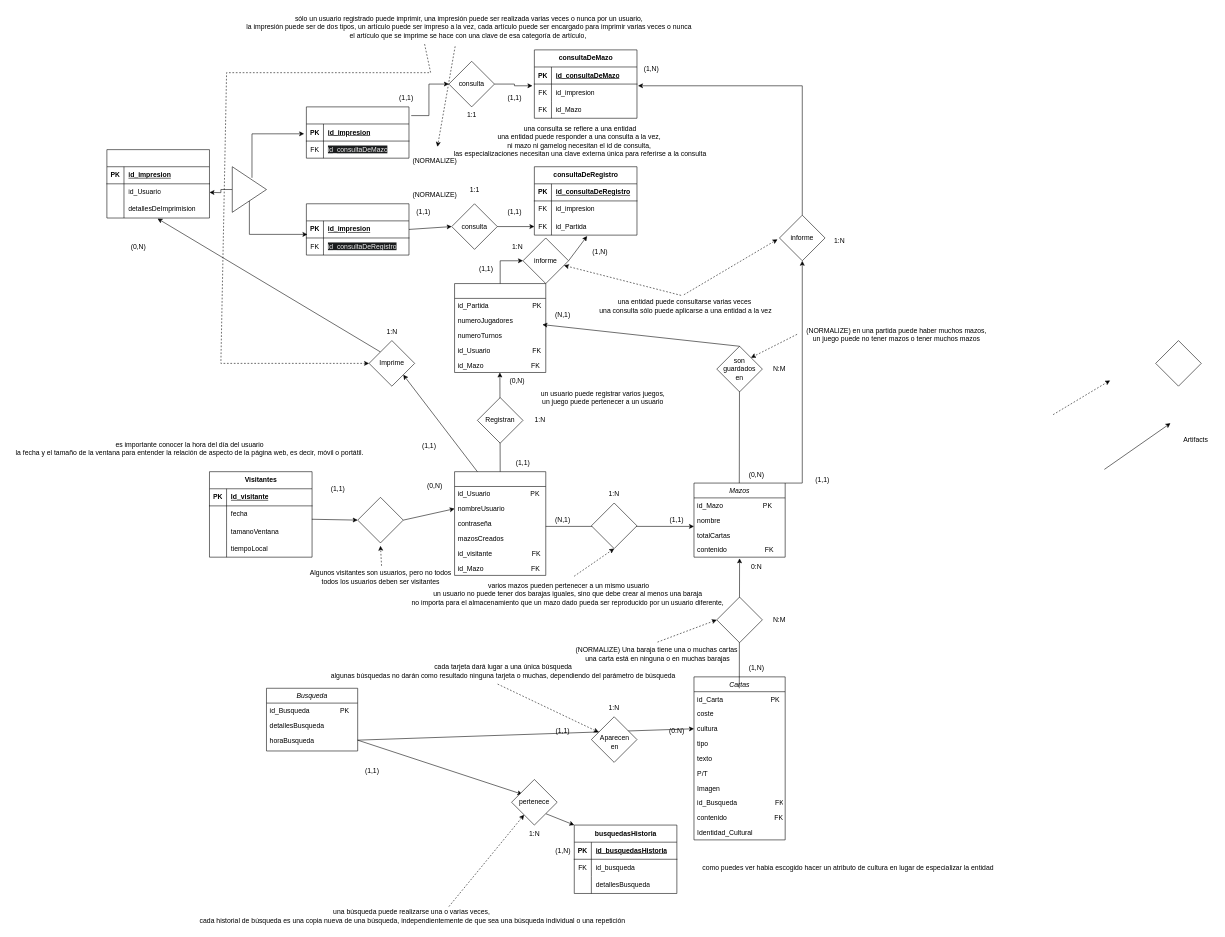
Image size: 1225x937. Some labels were removed from this diagram. The box of each missing label's shape, as (x1, y1, x2, y2) in pixels:
Contienen: (716, 597, 762, 643)
Crean: (591, 502, 637, 549)
impresionDeMazo: (306, 106, 409, 158)
impresionDeRegistro: (306, 203, 409, 255)
Impresiones: (106, 149, 209, 218)
RegistroPartida: (454, 283, 546, 372)
se registra: (357, 497, 403, 543)
Usuarios: (454, 471, 546, 575)
